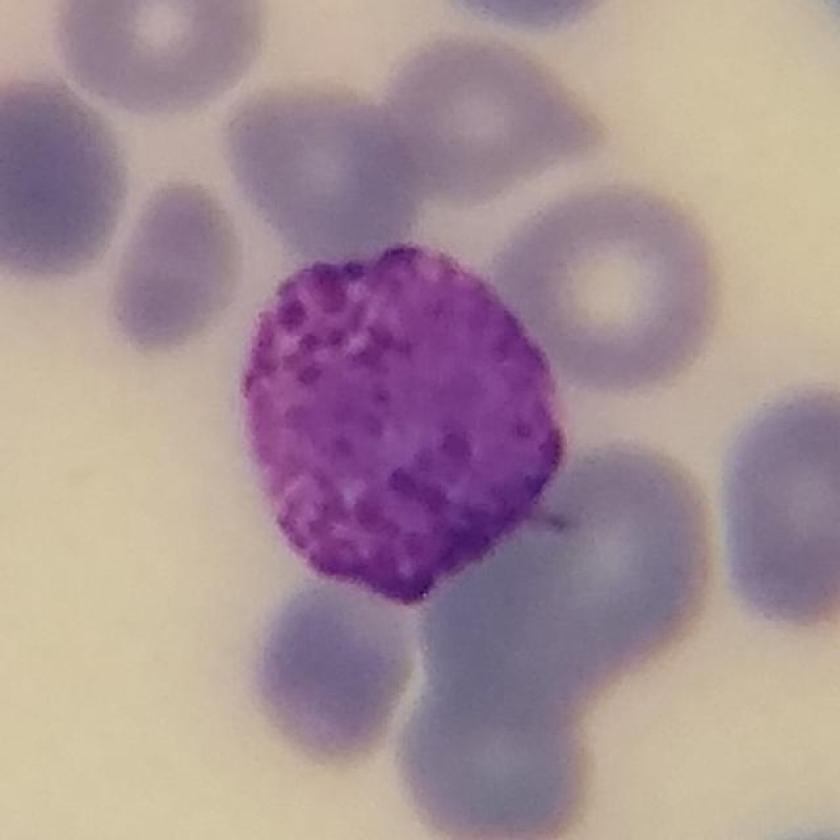basophil: (231, 231, 601, 617)
